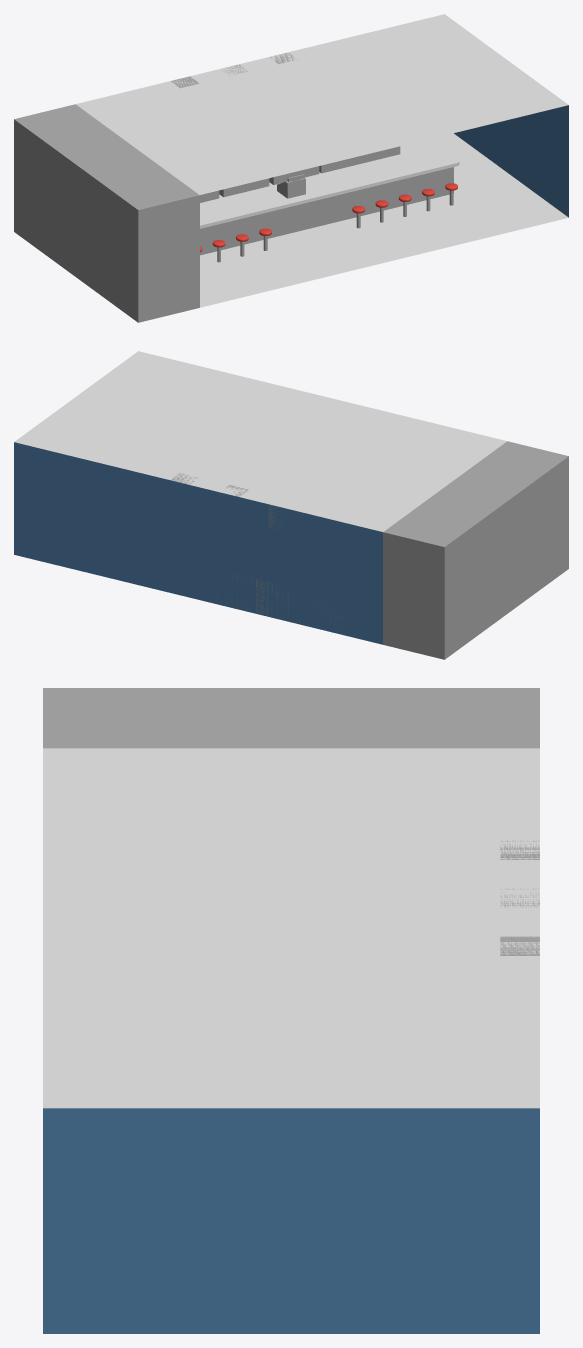
Rendered from diner 3.fbx.
3 views of the same model, one above another, from view 1: azimuth 30°, elevation 25°; view 2: azimuth 150°, elevation 25°; view 3: azimuth 270°, elevation 25° (orthographic). The views are drawn at different scales.
Visible parts, largest first — view 1: Walls, Floor Props, Seats, Cash Register, Vents; view 2: Walls; view 3: Walls, Vents.
Boxes of the visible parts, box(x1,y1,x2,y2) form: Walls: box(14, 14, 568, 322); Floor Props: box(200, 133, 568, 307); Seats: box(200, 183, 457, 262); Cash Register: box(277, 174, 305, 198); Vents: box(171, 53, 297, 88); Walls: box(14, 351, 568, 659); Walls: box(43, 688, 539, 1333); Vents: box(500, 840, 539, 955).
Size of the model in its own units: 14 by 3.5 by 7.
